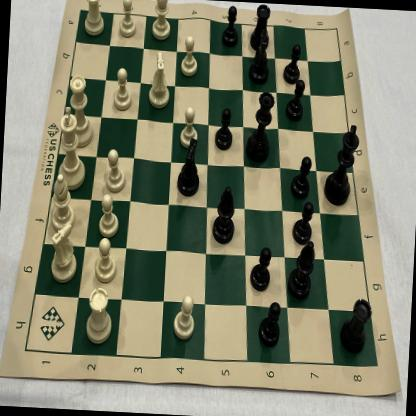black-bishop: (286, 235, 316, 300), (210, 184, 236, 245)
black-king: (322, 119, 361, 207)
black-knight: (172, 138, 204, 198), (245, 26, 272, 84)
black-pawn: (256, 300, 282, 352), (289, 152, 312, 202), (290, 200, 314, 246), (248, 245, 272, 291), (284, 78, 306, 122), (212, 106, 234, 150), (220, 4, 240, 50), (282, 43, 302, 84)
black-queen: (245, 87, 274, 162)
black-rook: (338, 293, 370, 353), (246, 2, 273, 52)
white-bishop: (46, 170, 77, 232), (150, 0, 172, 43)
white-king: (53, 104, 89, 191)
white-knight: (46, 221, 80, 285), (146, 49, 172, 111)
white-pawn: (170, 292, 197, 343), (92, 235, 119, 285), (101, 147, 128, 191), (96, 190, 120, 237), (111, 66, 134, 111), (178, 32, 200, 78), (178, 104, 198, 150), (116, 0, 139, 39)
white-queen: (63, 71, 97, 149)
white-rook: (82, 282, 113, 344), (79, 0, 107, 36)
